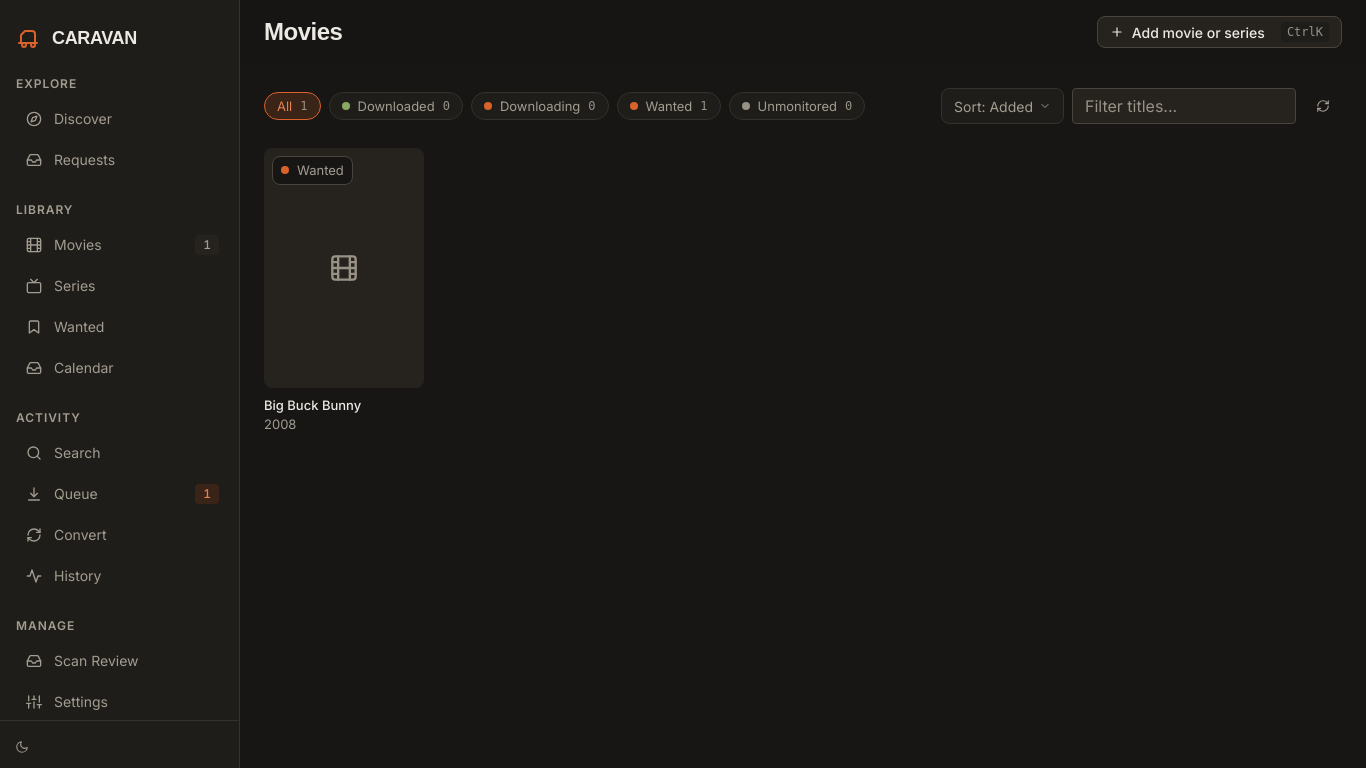
Scenario: App shell › sends the brand mark through the index to Discover
Click the link "CARAVAN".
click(76, 38)  # box [16, 26, 137, 50]
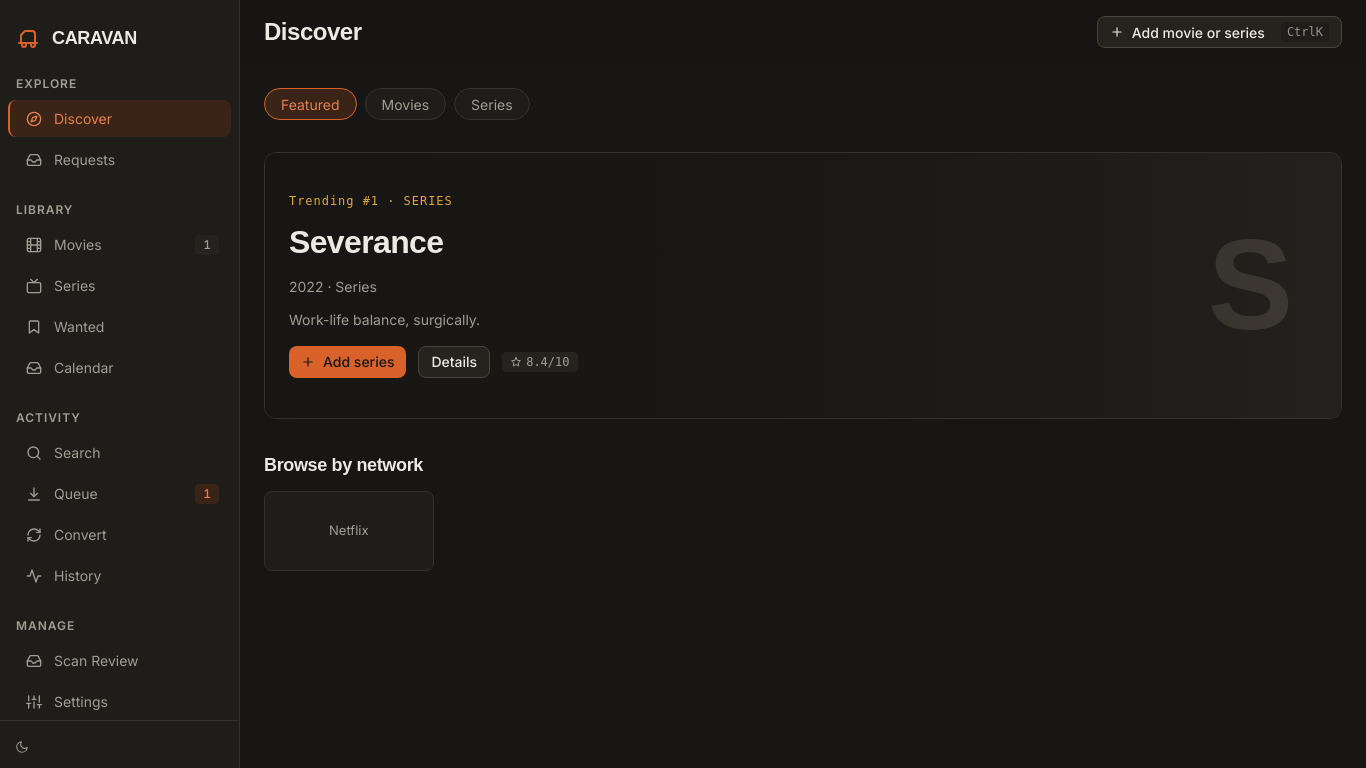
Expected: the text "Severance" is shown, [289, 224, 443, 260]
Expected: the text "Big Buck Bunny" is gone
